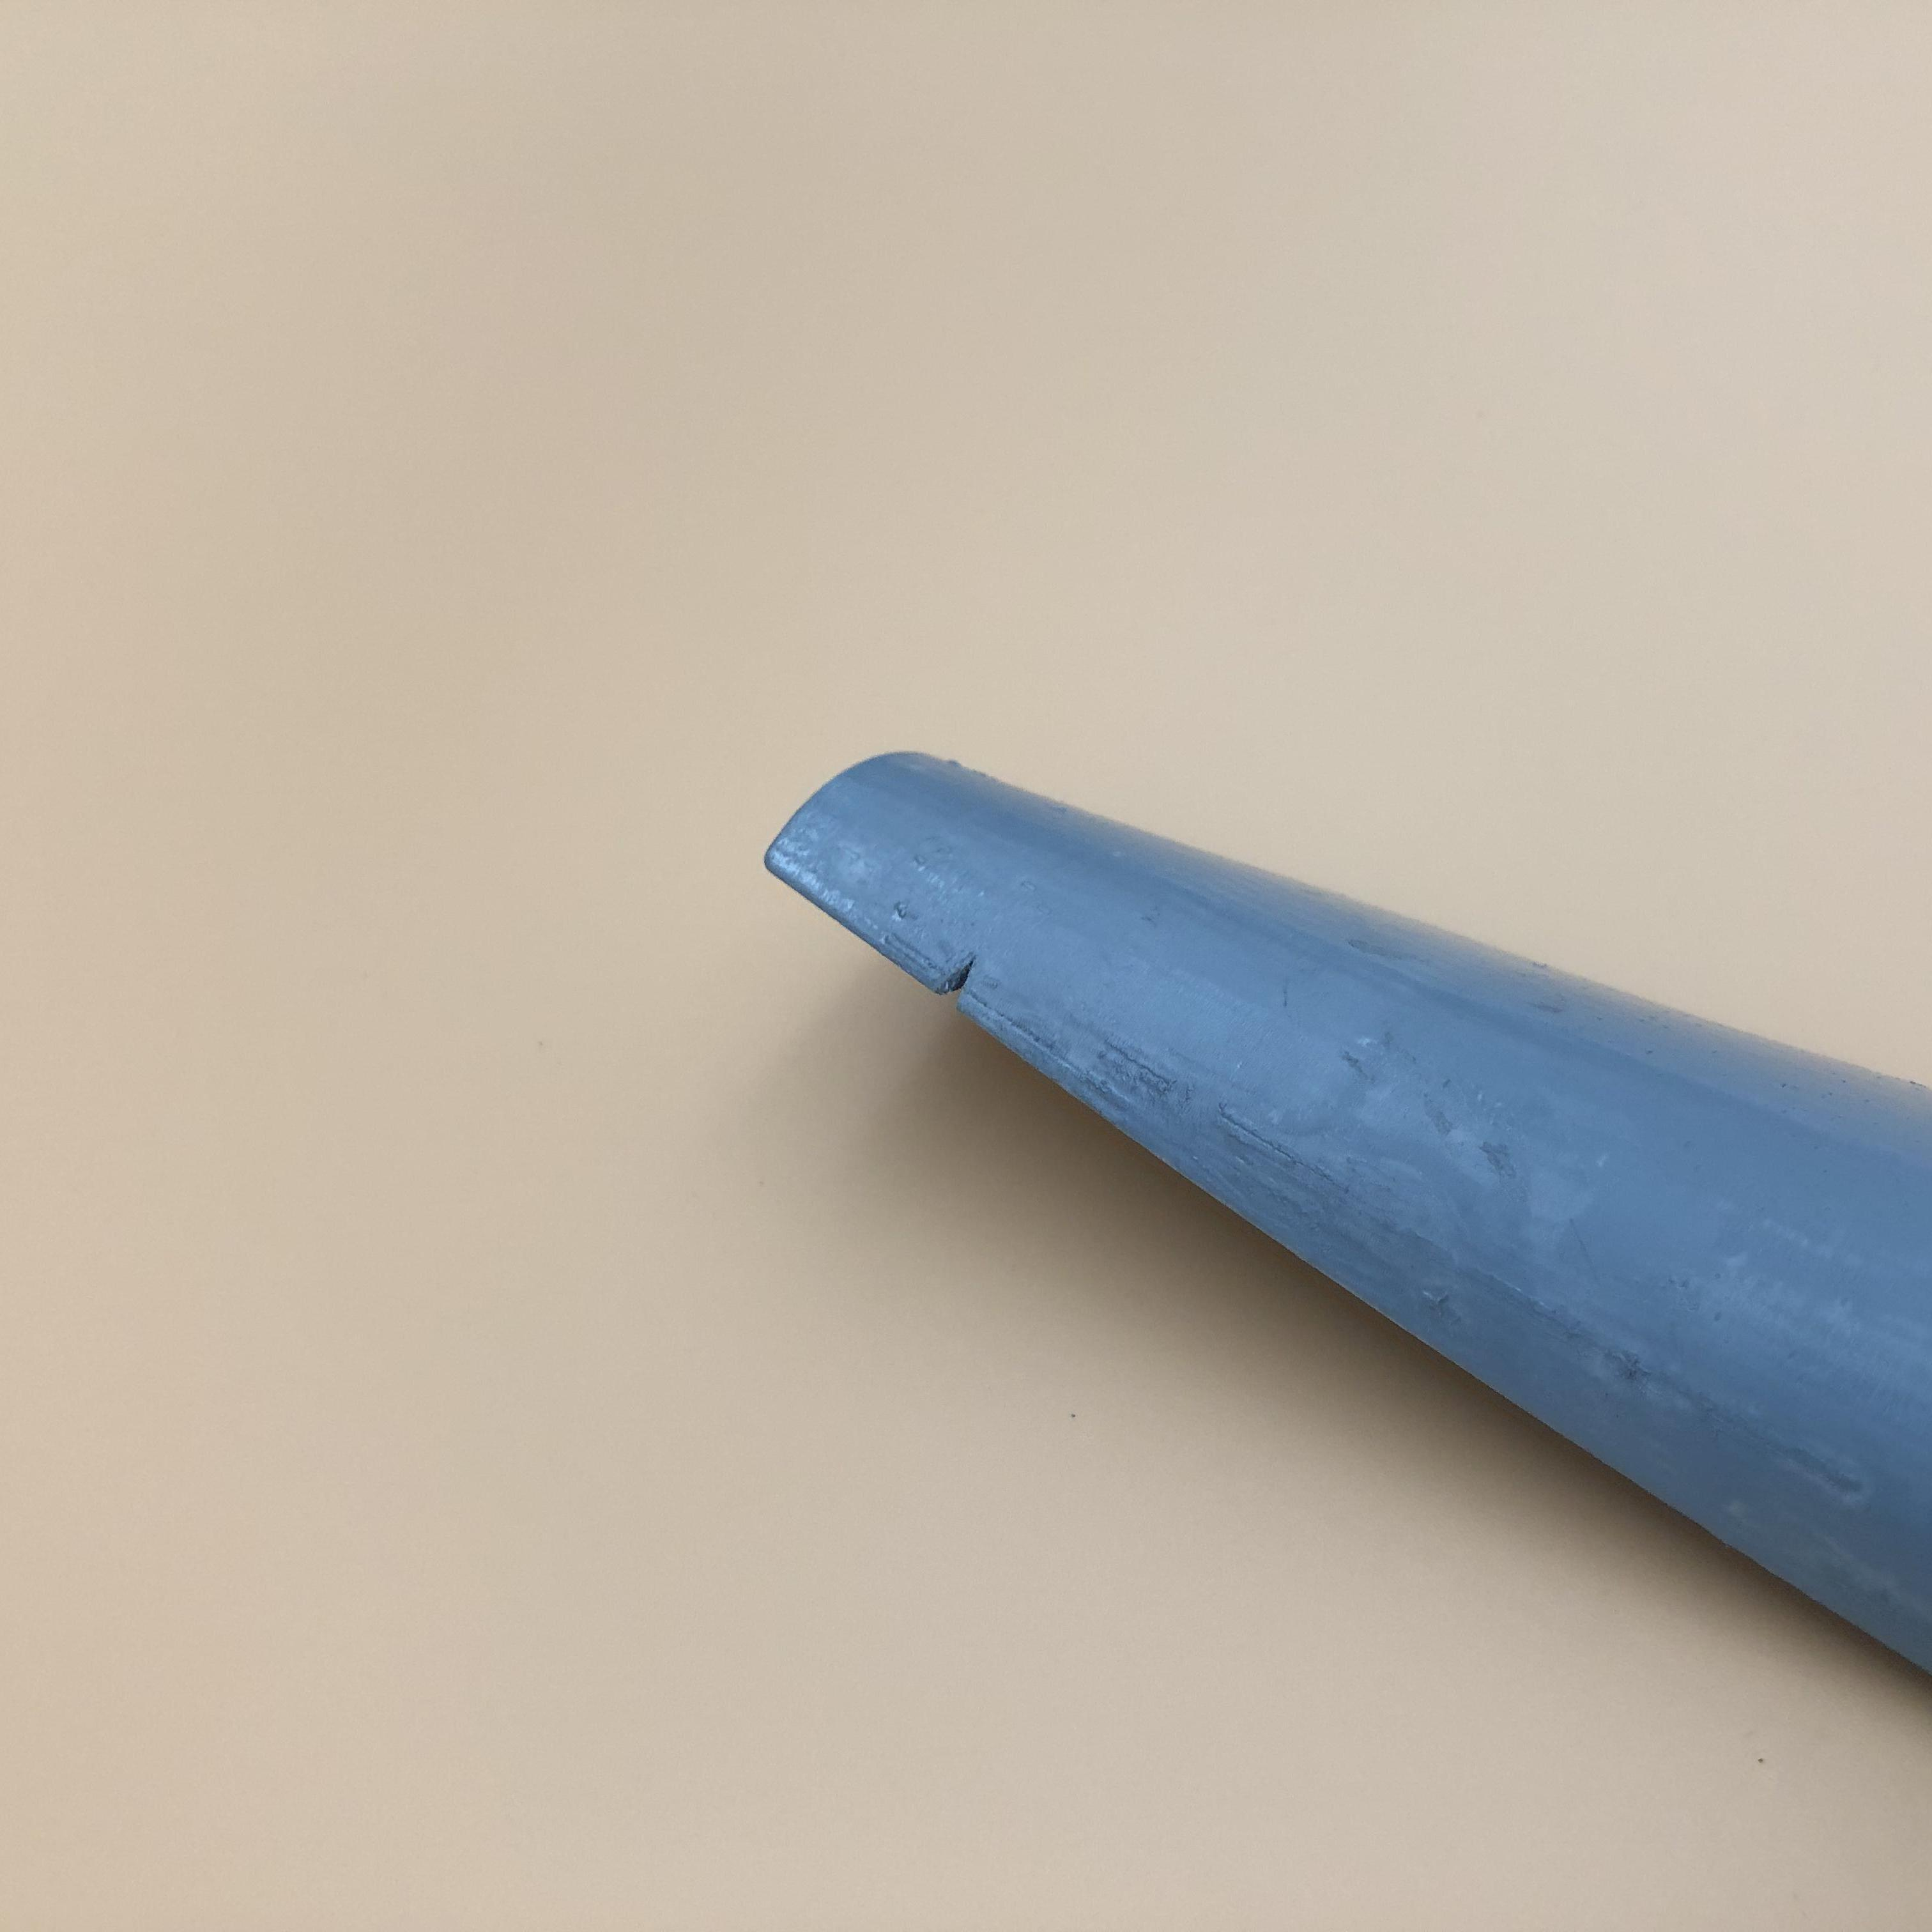groove: (931, 955, 994, 1003)
